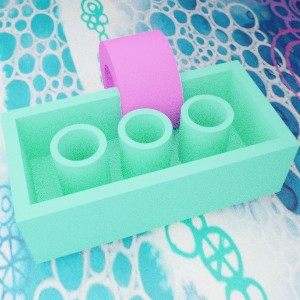lego: (0, 60, 299, 264), (98, 30, 183, 142)
